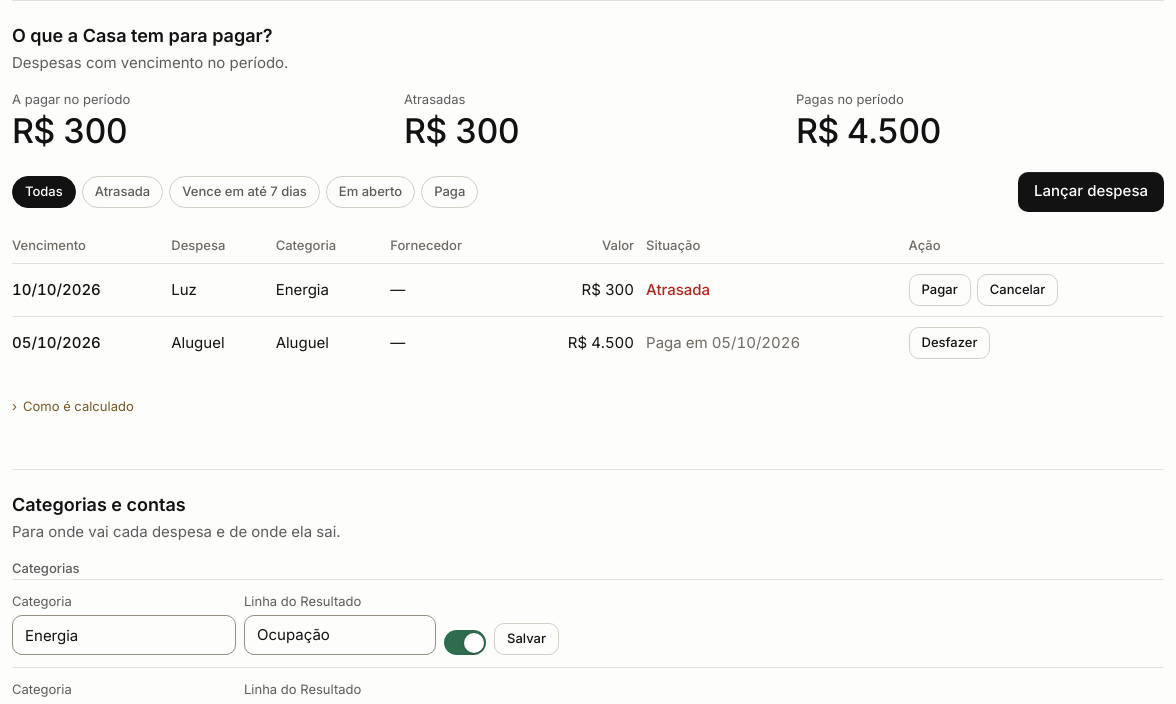
Scenario: Contas a pagar › filtro de situação esconde as outras linhas
The width and height of the screenshot is (1176, 704).
Click the button "Paga": (450, 192) top-left (421, 176), bottom-right (478, 208)
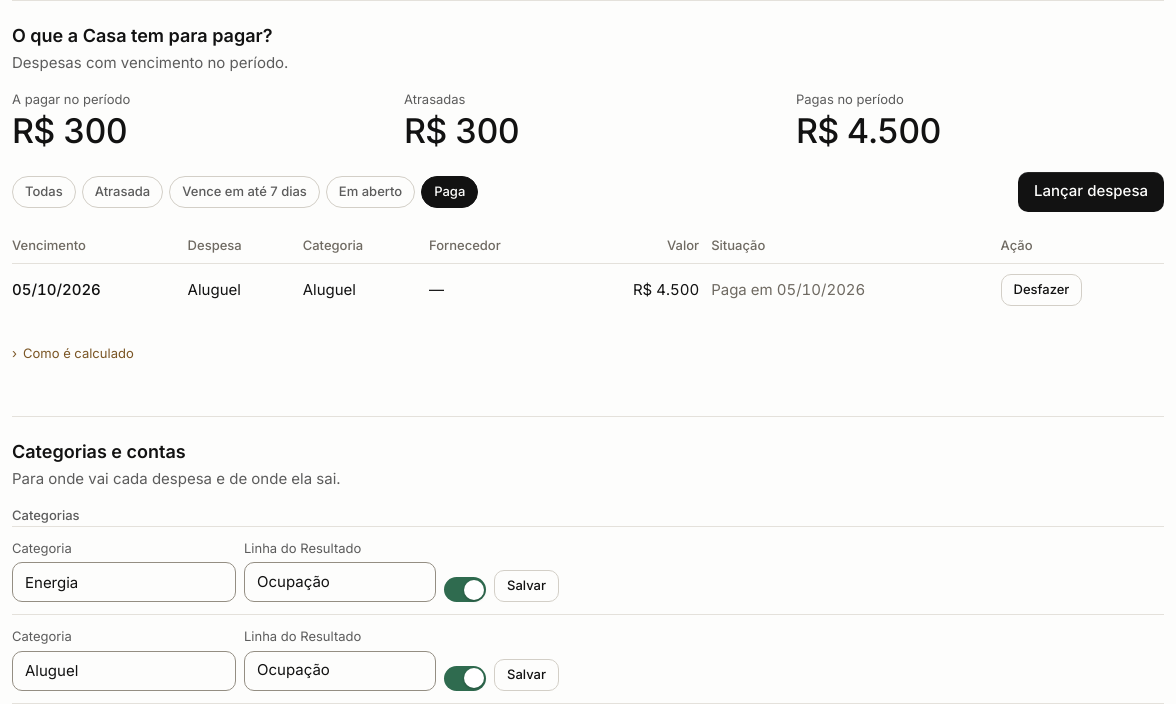
Expected: the 1st text "Aluguel" is shown, top-left (188, 264), bottom-right (303, 316)
Now the text "Luz" is not shown
